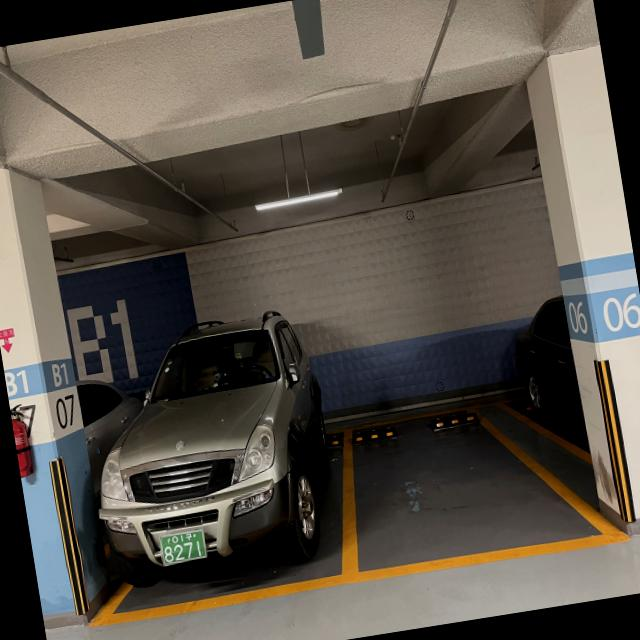car: (61, 296, 352, 628)
free: (345, 402, 638, 584)
